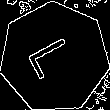L_NE: (25, 32, 84, 83)
